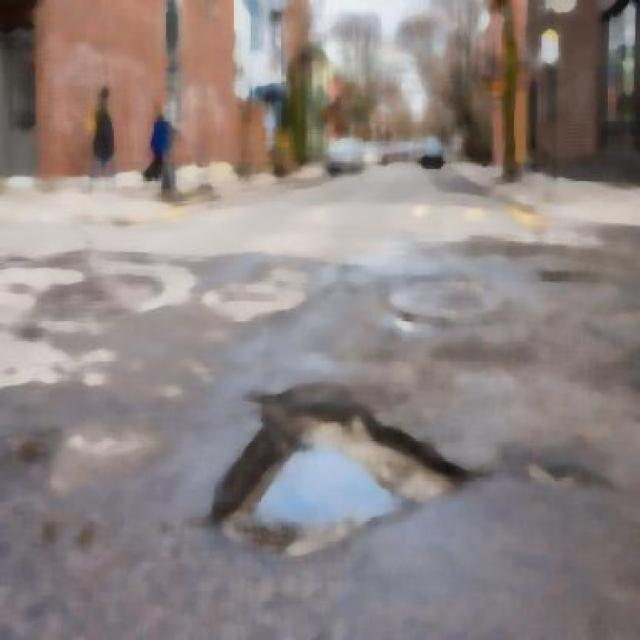Pothole: (209, 382, 472, 556)
